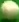white: (0, 0, 19, 22)
